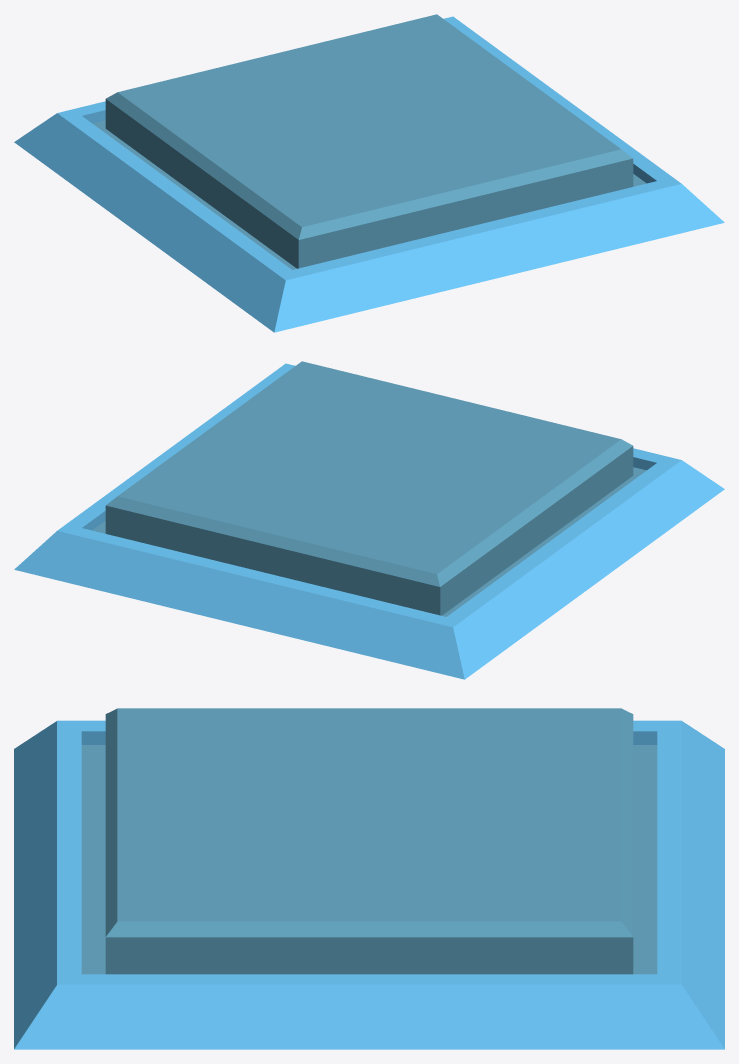
3 views of the same model, one above another, from view 1: azimuth 30°, elevation 25°; view 2: azimuth 150°, elevation 25°; view 3: azimuth 270°, elevation 25° (orthographic). The views are drawn at different scales.
Parts seen in each view (by area): view 1: Cube.001; view 2: Cube.001; view 3: Cube.001.
Part boxes in pixels (x1=…): Cube.001: x1=14, y1=14, x2=724, y2=332; Cube.001: x1=14, y1=361, x2=724, y2=679; Cube.001: x1=14, y1=708, x2=724, y2=1049.
Bounding box in the file's own units: 148 × 19.42 × 148.
